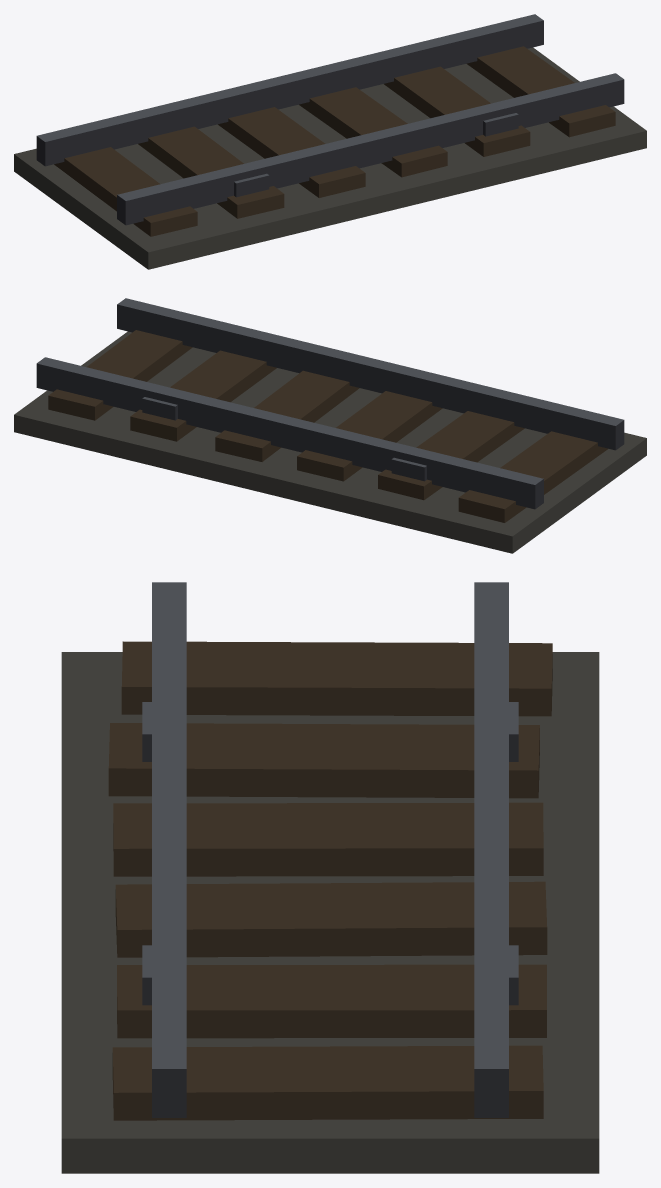
File: rail-straight.glb
3 renders of one model, top to bottom at view 1: azimuth 30°, elevation 25°; view 2: azimuth 150°, elevation 25°; view 3: azimuth 270°, elevation 25°, orthographic. The views are drawn at different scales.
Parts seen in each view (by area): view 1: RailStraight; view 2: RailStraight; view 3: RailStraight.
Part boxes in pixels (<box>): RailStraight: <box>14,14,646,269</box>; RailStraight: <box>14,298,646,553</box>; RailStraight: <box>61,582,599,1173</box>.
Bounding box in the file's own units: 1.5 × 0.15 × 0.7.
1 material, 1 textured.
